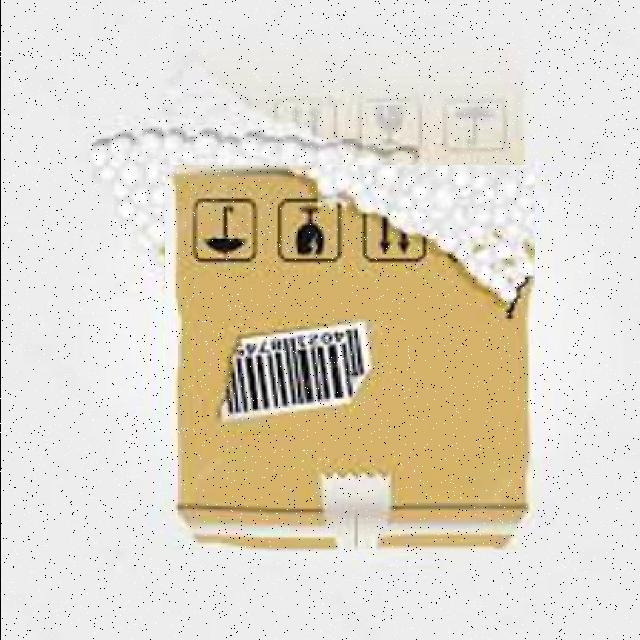defect: (164, 165, 534, 552)
